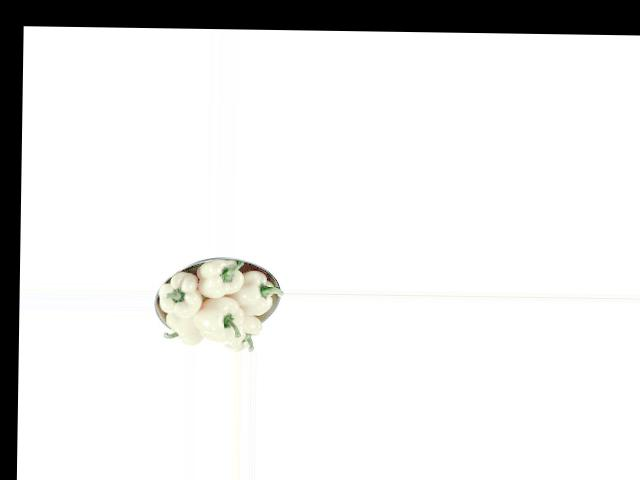bell_pepper: (224, 311, 266, 351)
